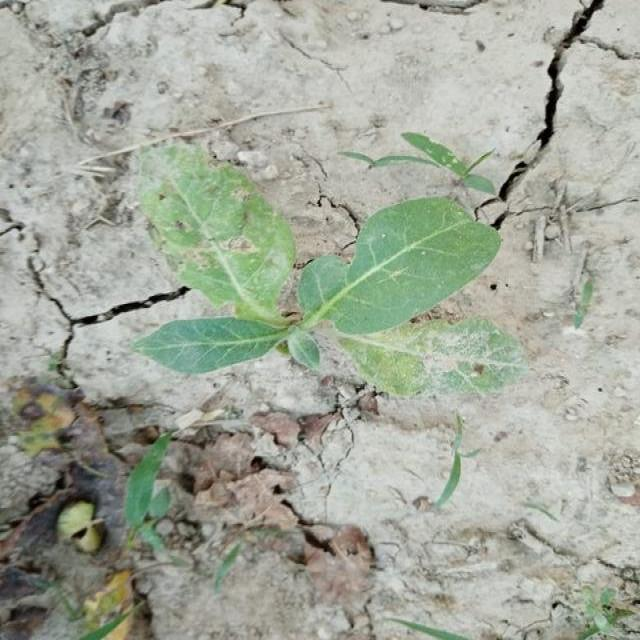crop: (133, 135, 535, 412)
